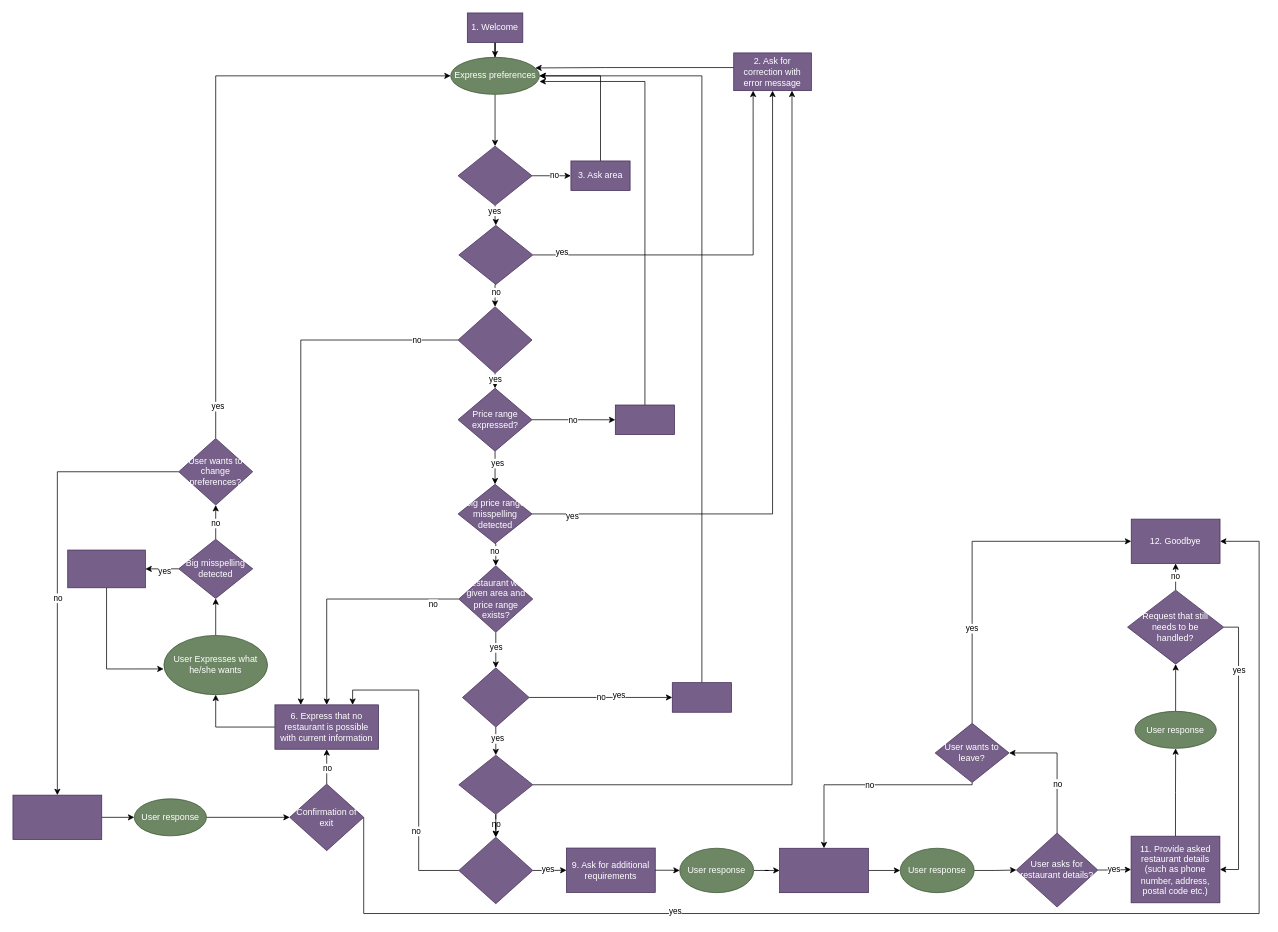
This 1278x932 diagram has some shape labels left out. Each missing label, with the centre of its shape:
10. Suggest all suitable Restaurant: (x=823, y=870)
4. Ask price range: (x=645, y=419)
5. Ask food type: (x=701, y=697)
7. Ask for correction with error message: (x=106, y=568)
8. Confirm user wants to leave: (x=57, y=817)
Area expressed?: (x=494, y=175)
Big area misspelling detected: (x=495, y=255)
Big food type misspelling detected: (x=495, y=784)
Food type expressed?: (x=495, y=697)
Restaurant with given area exists?: (x=494, y=339)
Restaurant with given preferences exists?: (x=495, y=870)
